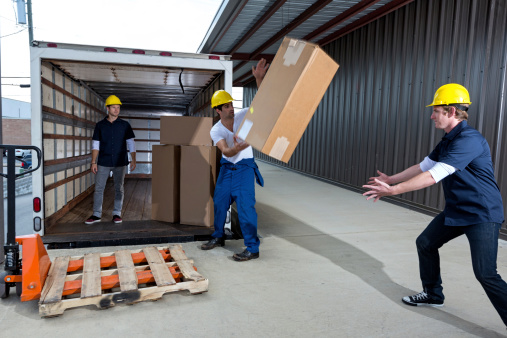throw: (265, 34, 488, 324), (194, 33, 342, 276)
